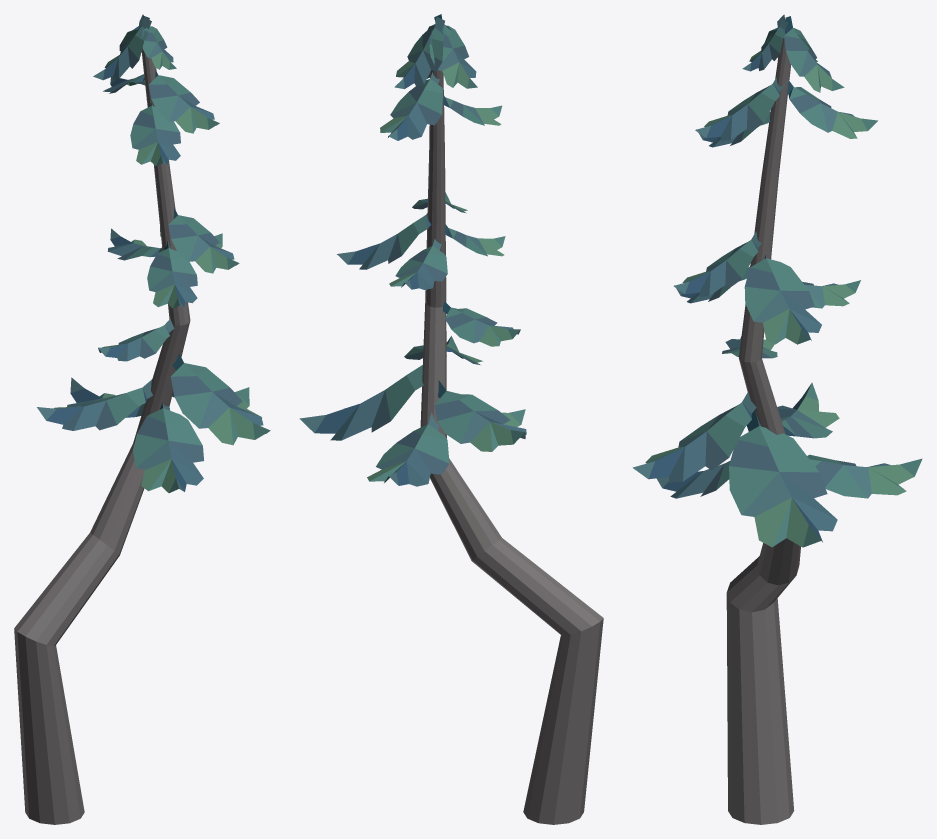
File: pine_with_tex_2.glb
The picture shows the model from 3 angles, left to right: view 1: azimuth 30°, elevation 25°; view 2: azimuth 150°, elevation 25°; view 3: azimuth 270°, elevation 25°; orthographic projection. The views are drawn at different scales.
Visible parts, largest first — view 1: pine.001; view 2: pine.001; view 3: pine.001.
Boxes of the visible parts, left/top/right/bottom form: pine.001: left=14, top=14, right=270, bottom=824; pine.001: left=299, top=14, right=603, bottom=824; pine.001: left=632, top=14, right=922, bottom=824.
Bounding box in the file's own units: 4.16 × 11.54 × 3.57.
Materials: 1 (1 with a texture image).
